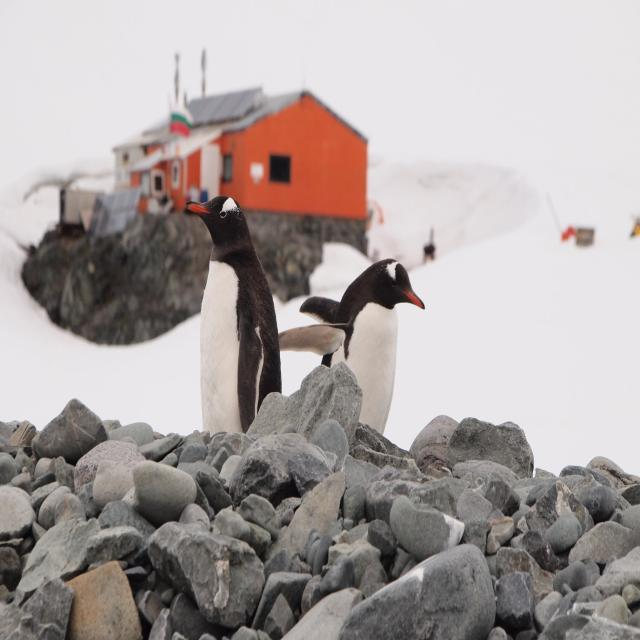Penguins: (181, 188, 287, 442), (298, 249, 432, 439)
